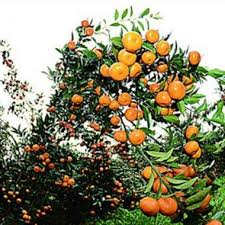orange: (135, 195, 160, 215), (122, 30, 145, 50), (108, 64, 129, 82), (114, 130, 132, 146)
